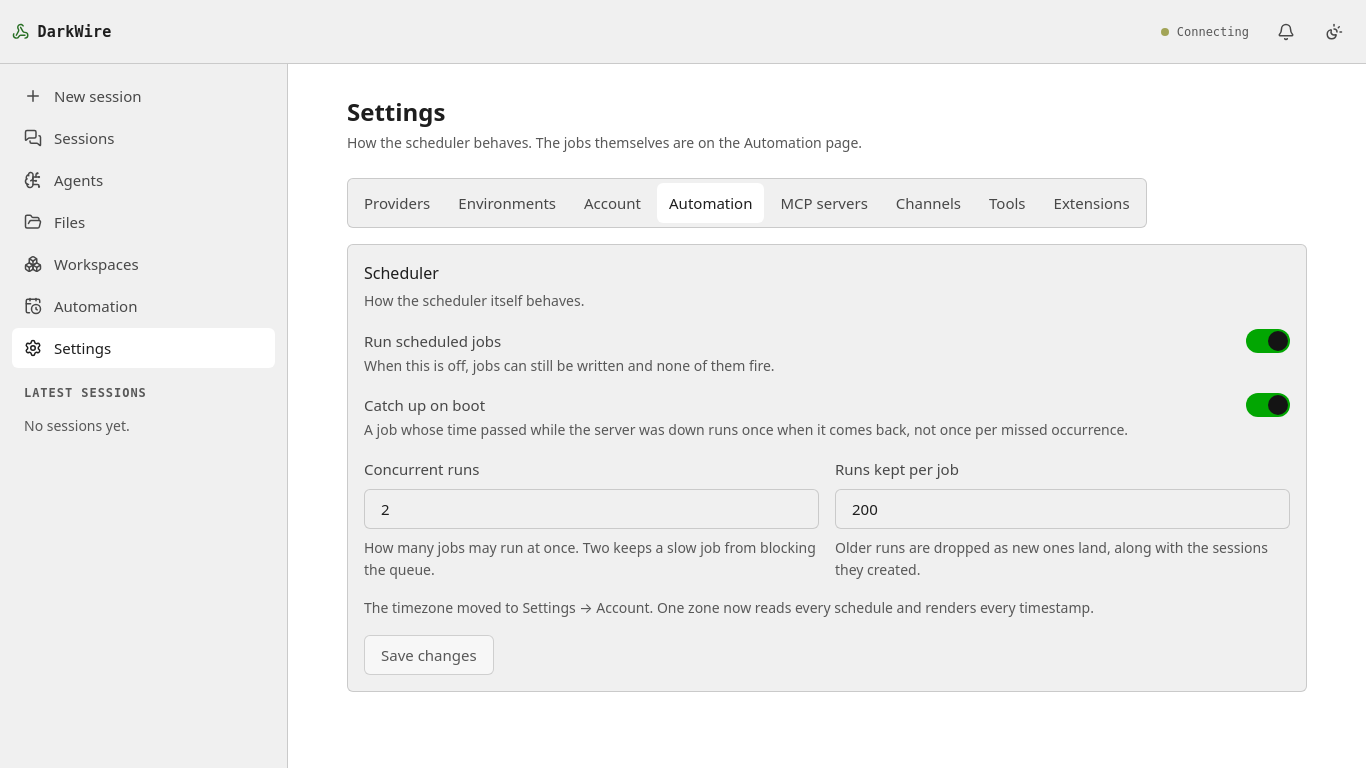
the Automation panel › refuses a concurrency below one before it reaches the wire
Step 1. Replace the text in the field labelled "Concurrent runs" with "0" → (592, 509), box x1=364 y1=489 x2=819 y2=529
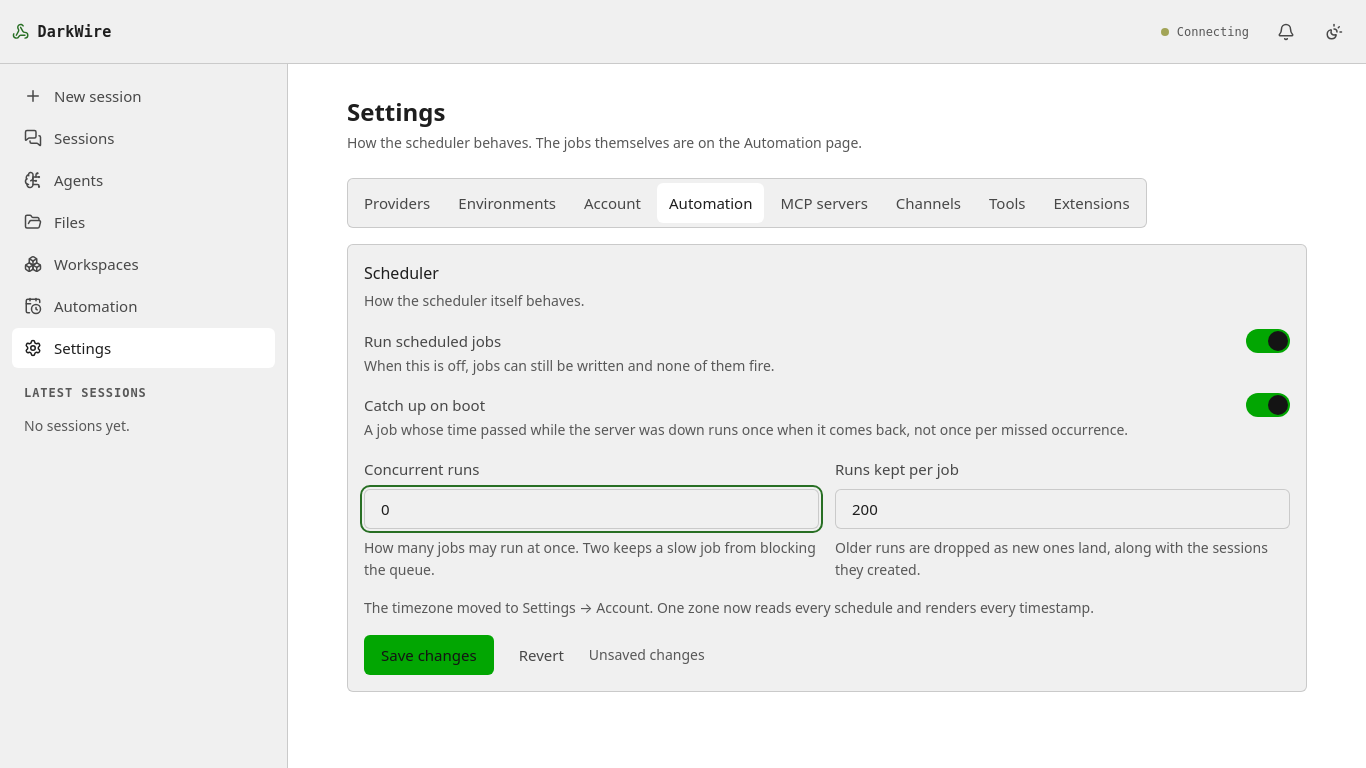
Step 2. Click the button "Save changes" → click(429, 655), box x1=364 y1=635 x2=494 y2=675
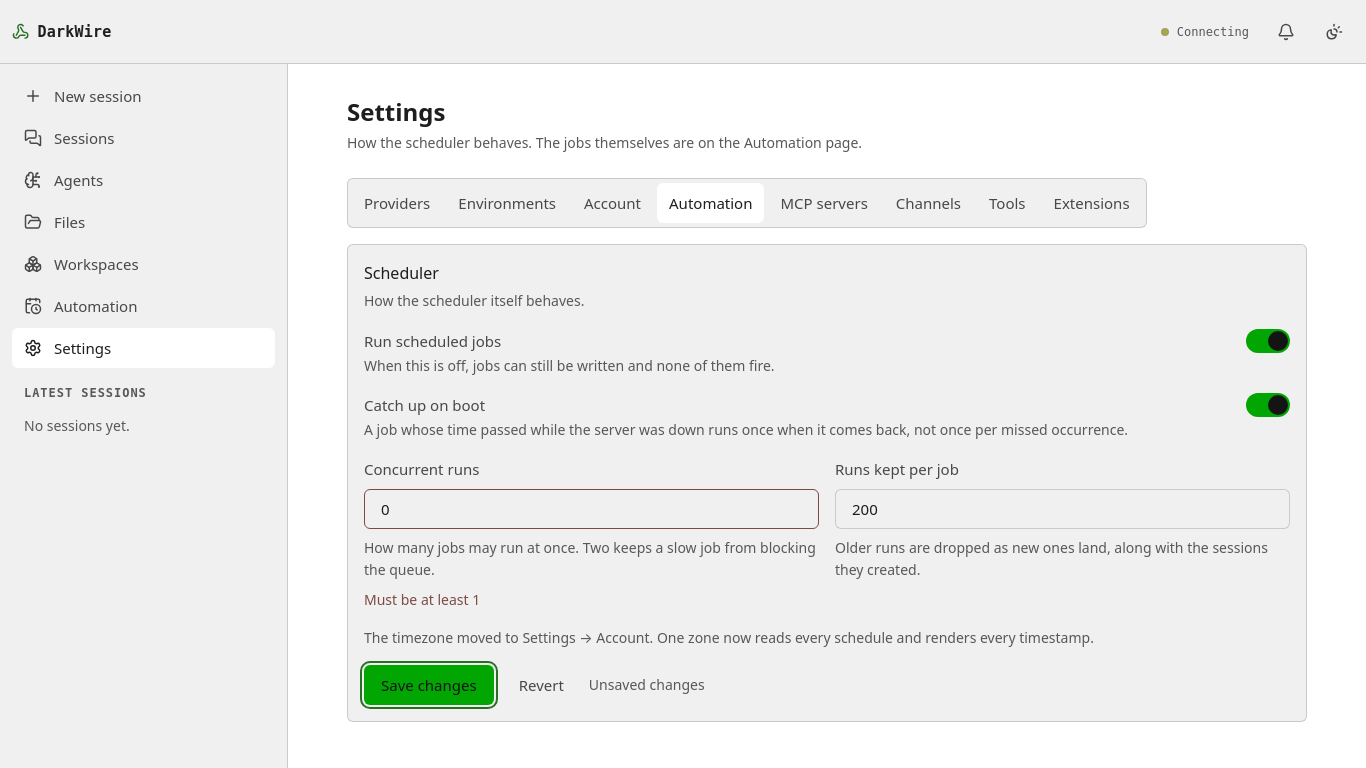
Expected: the message "Must be at least 1" is shown, x1=364 y1=590 x2=480 y2=609
